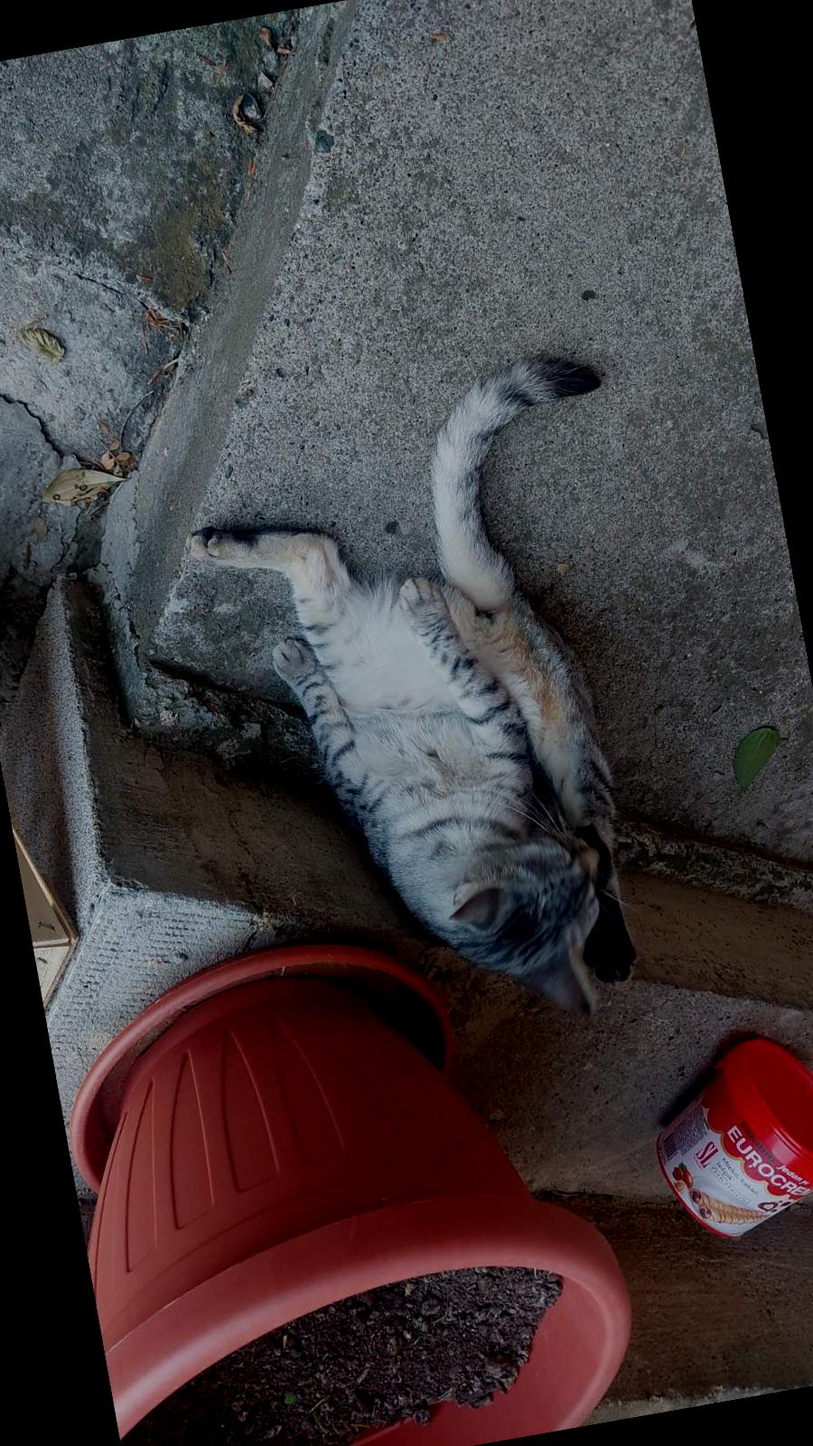macka: (168, 350, 714, 1086)
